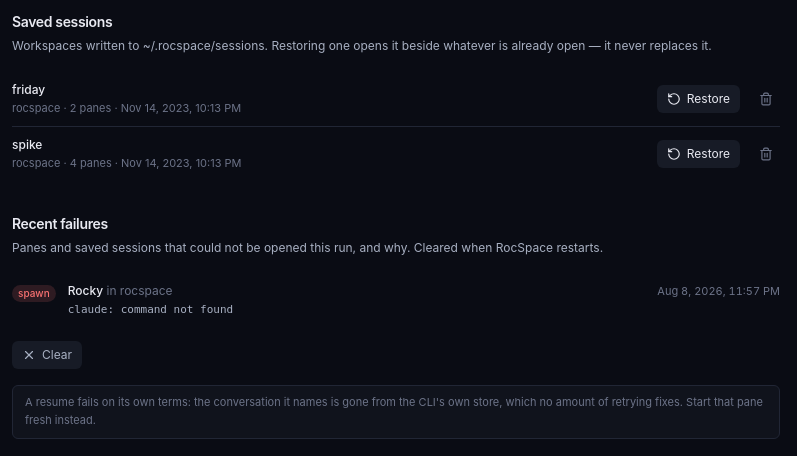
it: HistorySection › clears the failures on demand
The image size is (797, 456).
Expected: the text "claude: command not found" is shown, top-left (68, 303), bottom-right (233, 316)
Click the button "Clear" at (47, 355), box top-left (12, 341), bottom-right (82, 369)
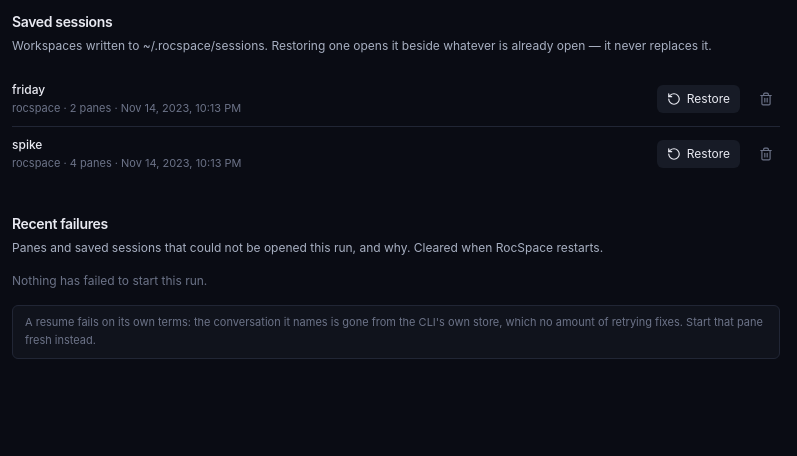
Now the text "Nothing has failed to start this run." is shown, box top-left (12, 273), bottom-right (207, 288)
